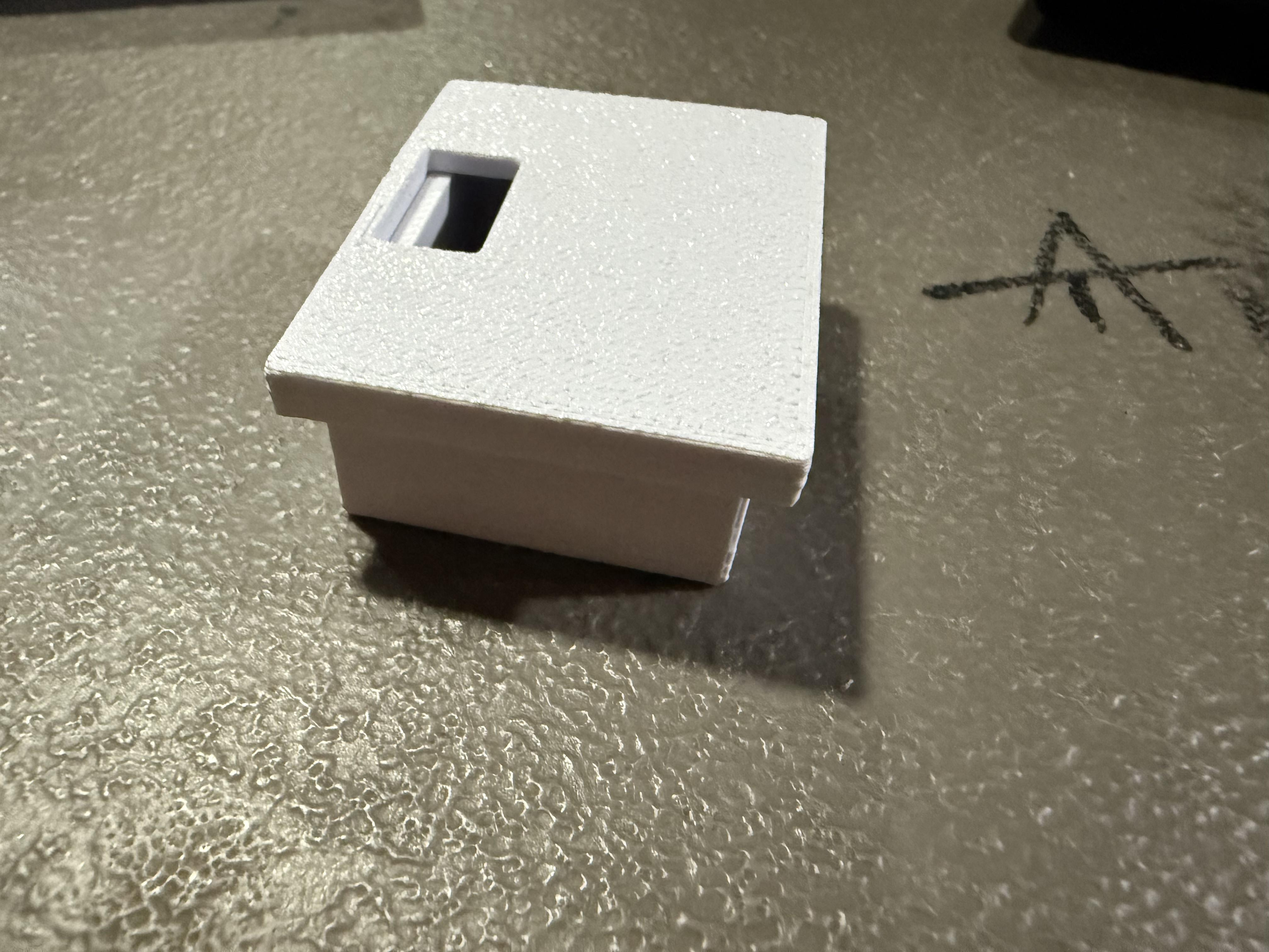enclosure: (263, 79, 827, 586)
